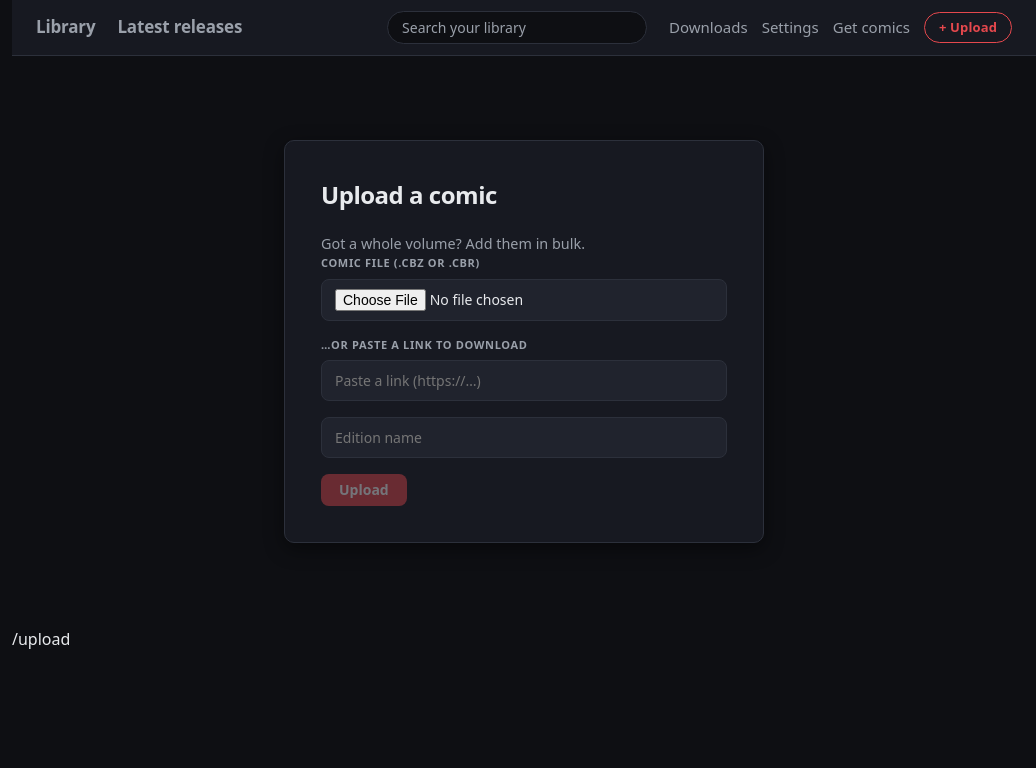
Scenario: starting a download puts it on the bar straight away
This screenshot has width=1036, height=768.
Type "https://x.test/dls/tok" into the field with placeholder "Paste a link (https://…)". click: (524, 380)
box: x1=321 y1=360 x2=727 y2=401
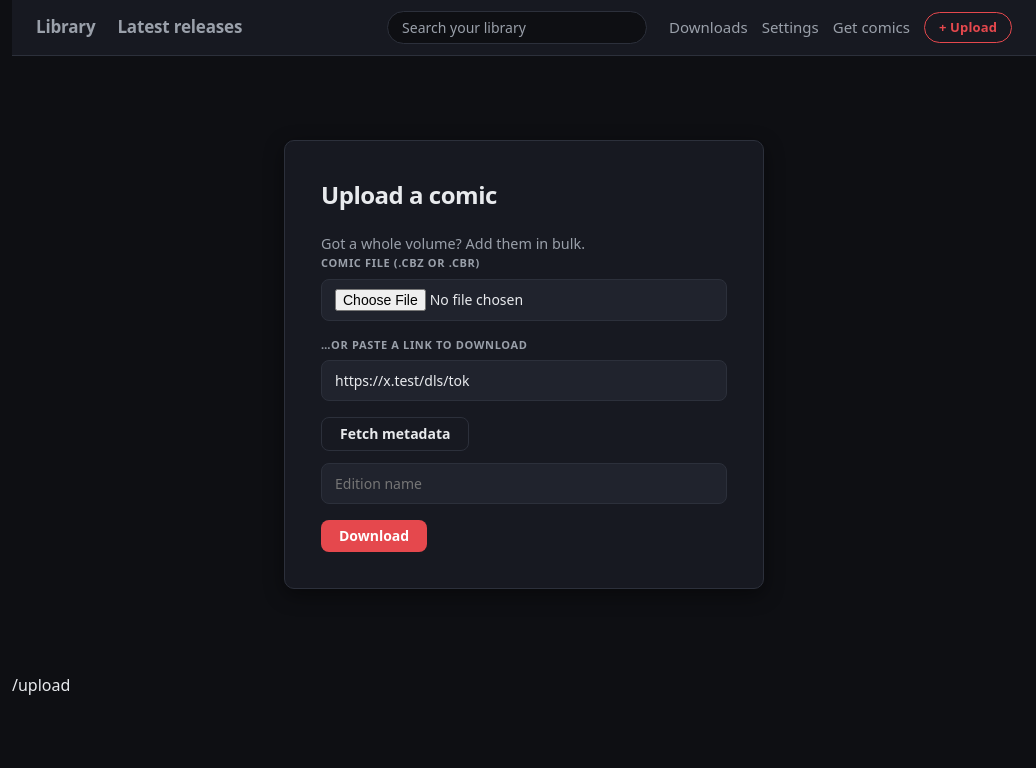
Click the button "Download". click: (374, 536)
box: x1=321 y1=520 x2=427 y2=552
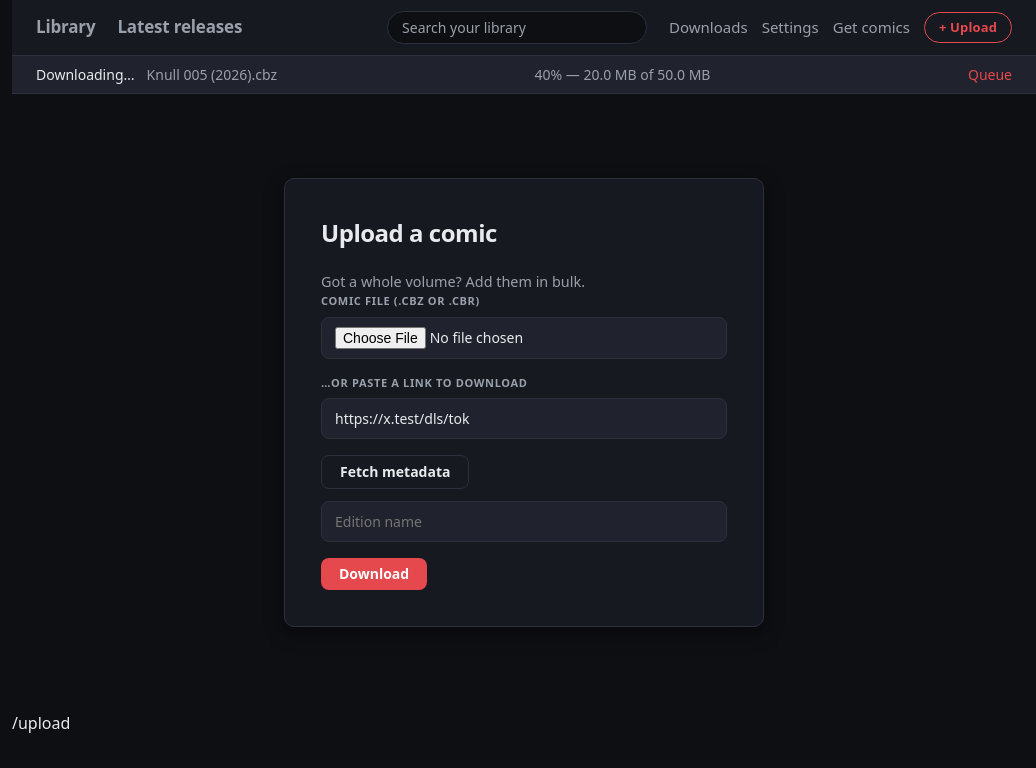
expect the message shows "Downloading": met, box x1=36 y1=65 x2=135 y2=84
